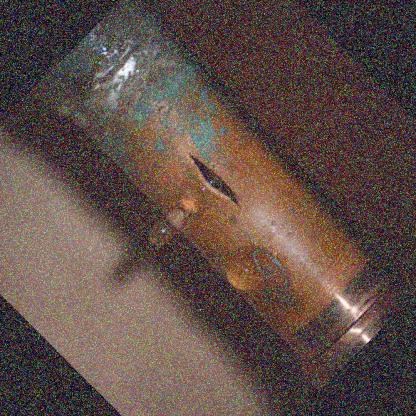burst: (179, 142, 257, 220)
